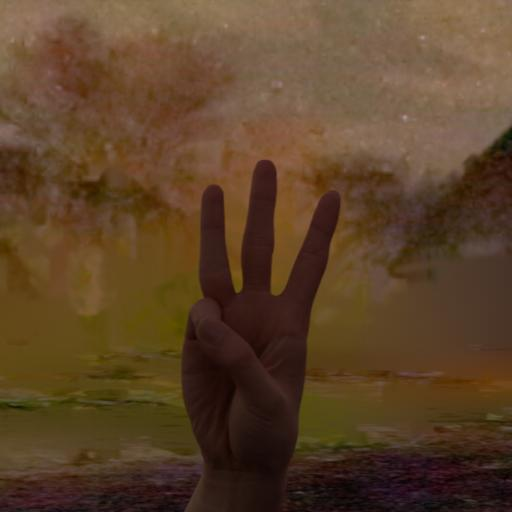W: (151, 147, 355, 483)
